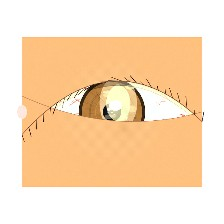corneal_ulcer: (89, 80, 148, 127)
